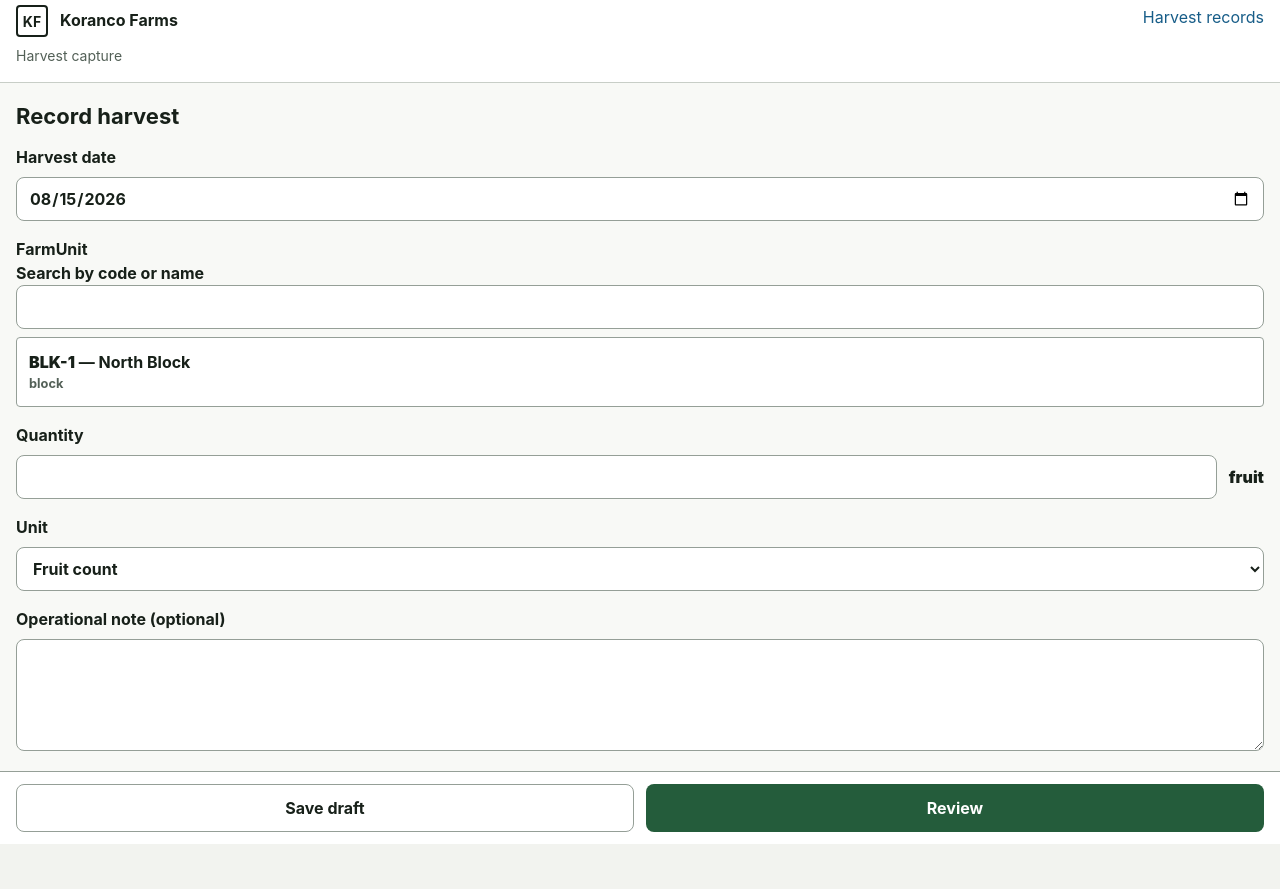
Scenario: field harvest capture › searches and selects FarmUnit, validates count, reviews, and submits
Click the button "BLK-1 — North Block block" at (52, 362), box 16,337 -> 1264,407
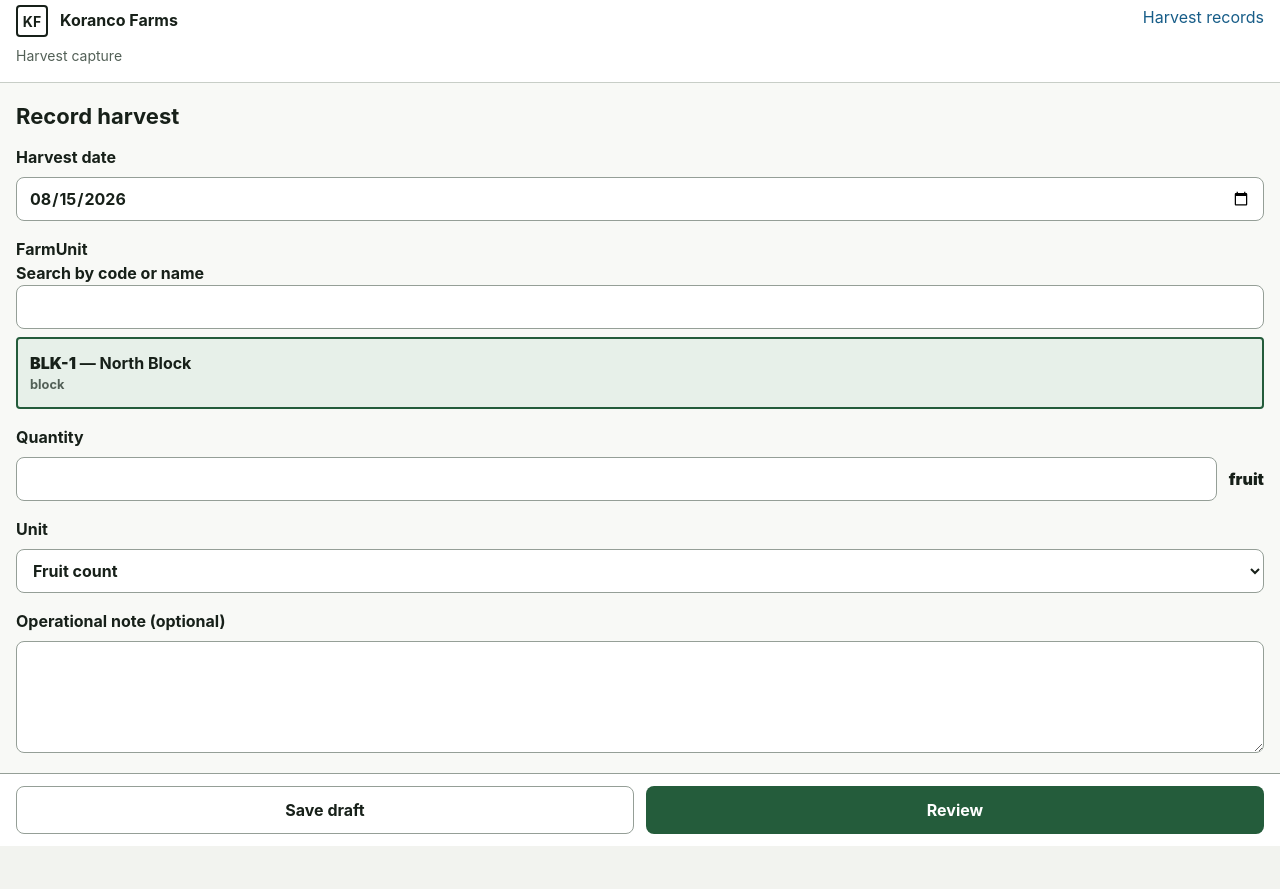
Type "1.5" into the number field labelled "Quantity" at (616, 479), box 16,457 -> 1217,501
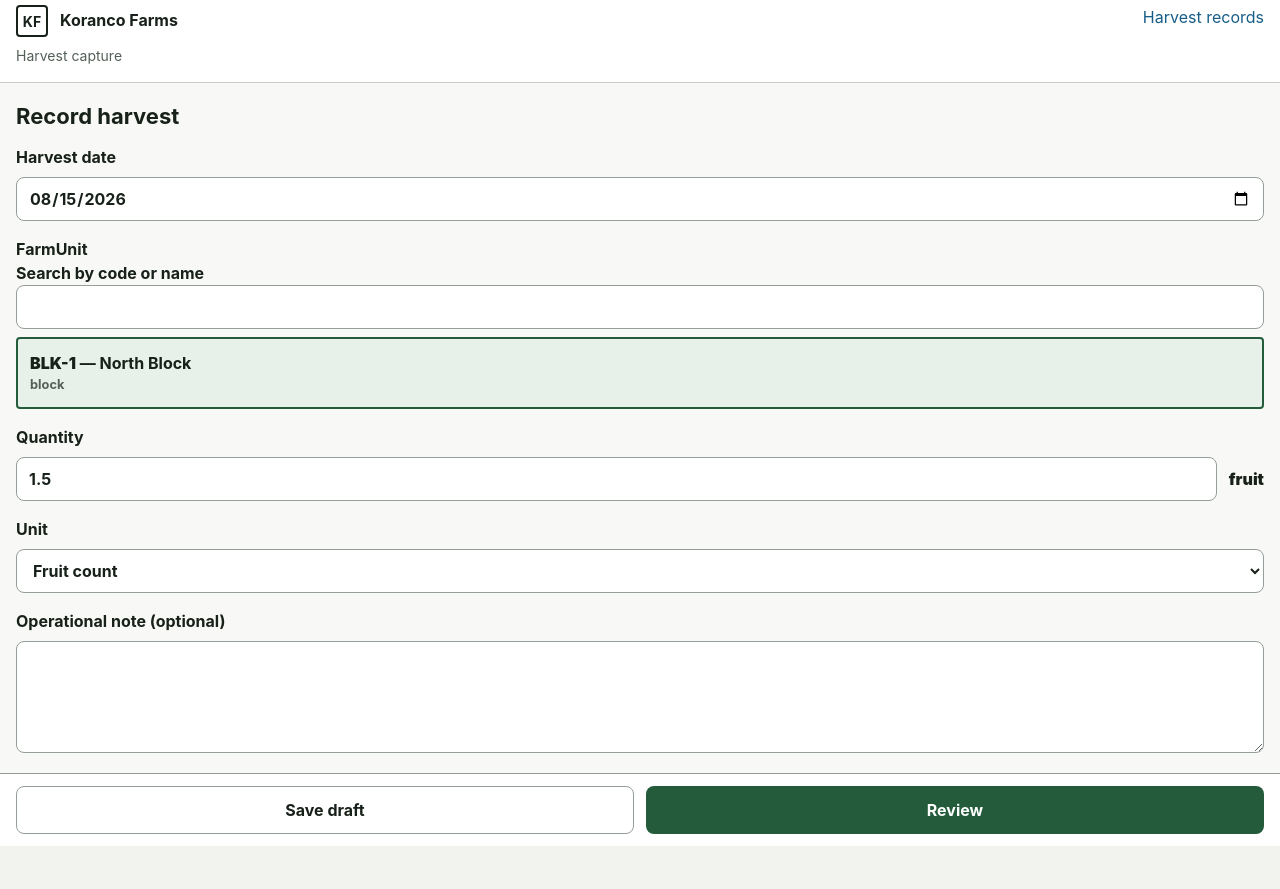
Click the button "Review" at (955, 810), box 646,786 -> 1264,834
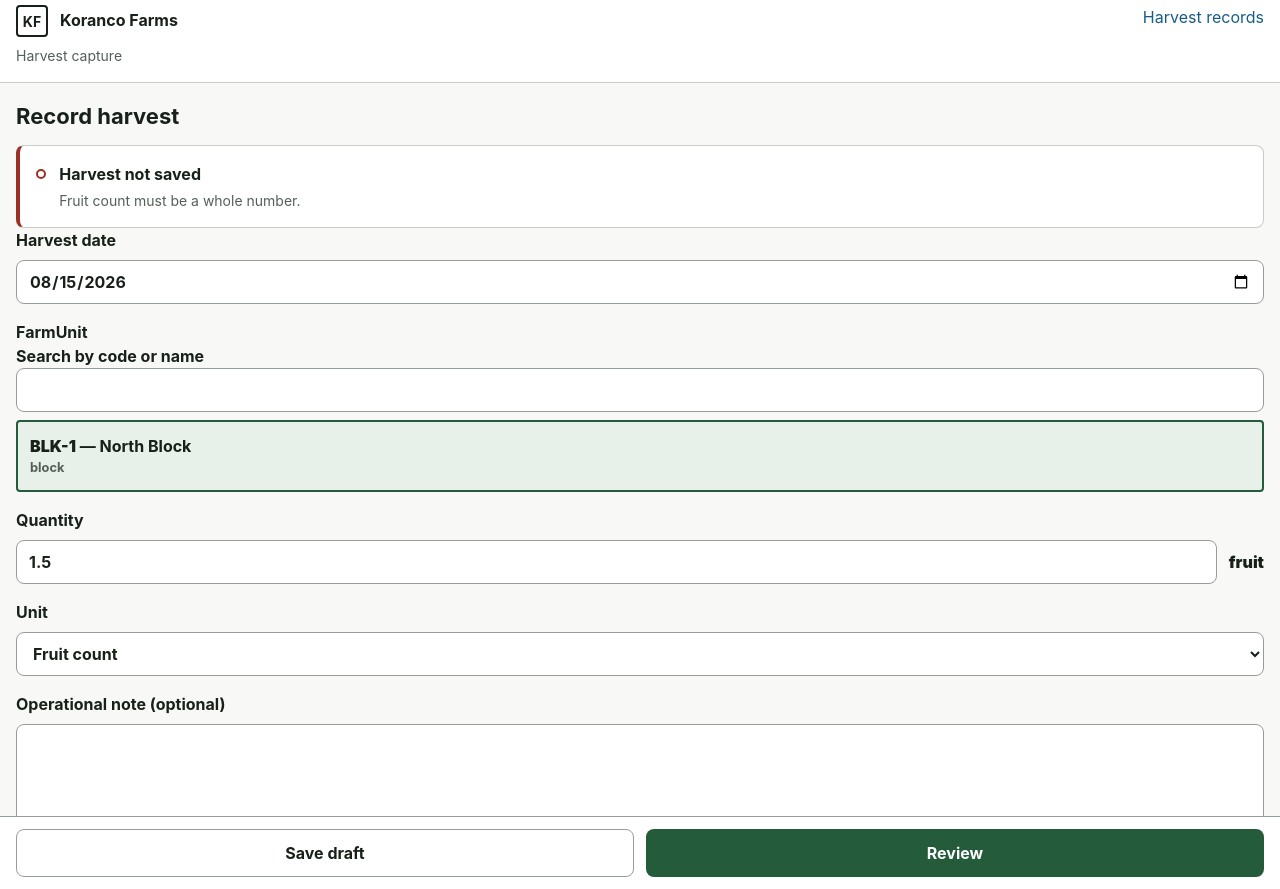
Expected: the text "Fruit count must be a whole number." is shown, 59,192 -> 300,209
Replace the text in the number field labelled "Quantity" with "25" at (616, 562), box 16,540 -> 1217,584
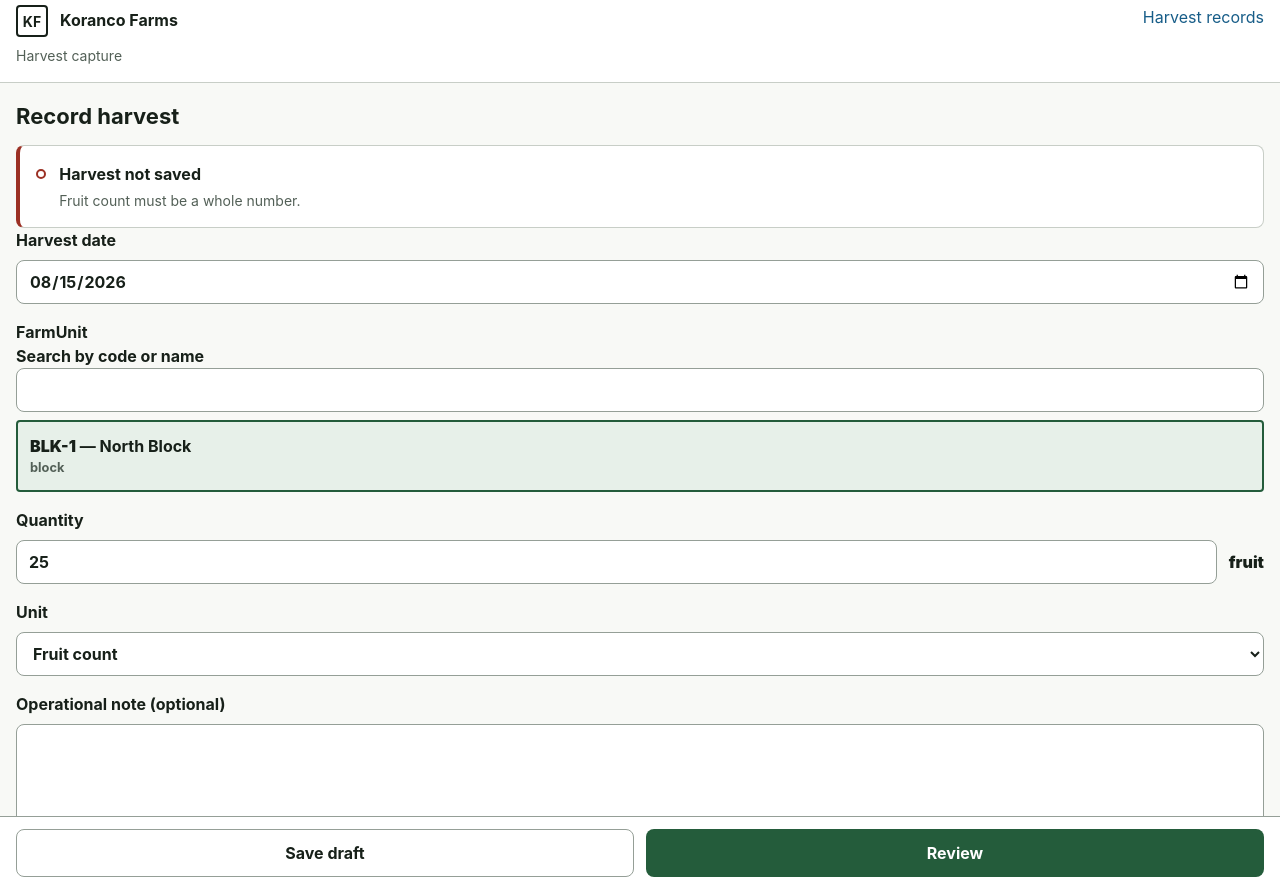
Click the button "Review" at (955, 853), box 646,829 -> 1264,877
(page scrolled)
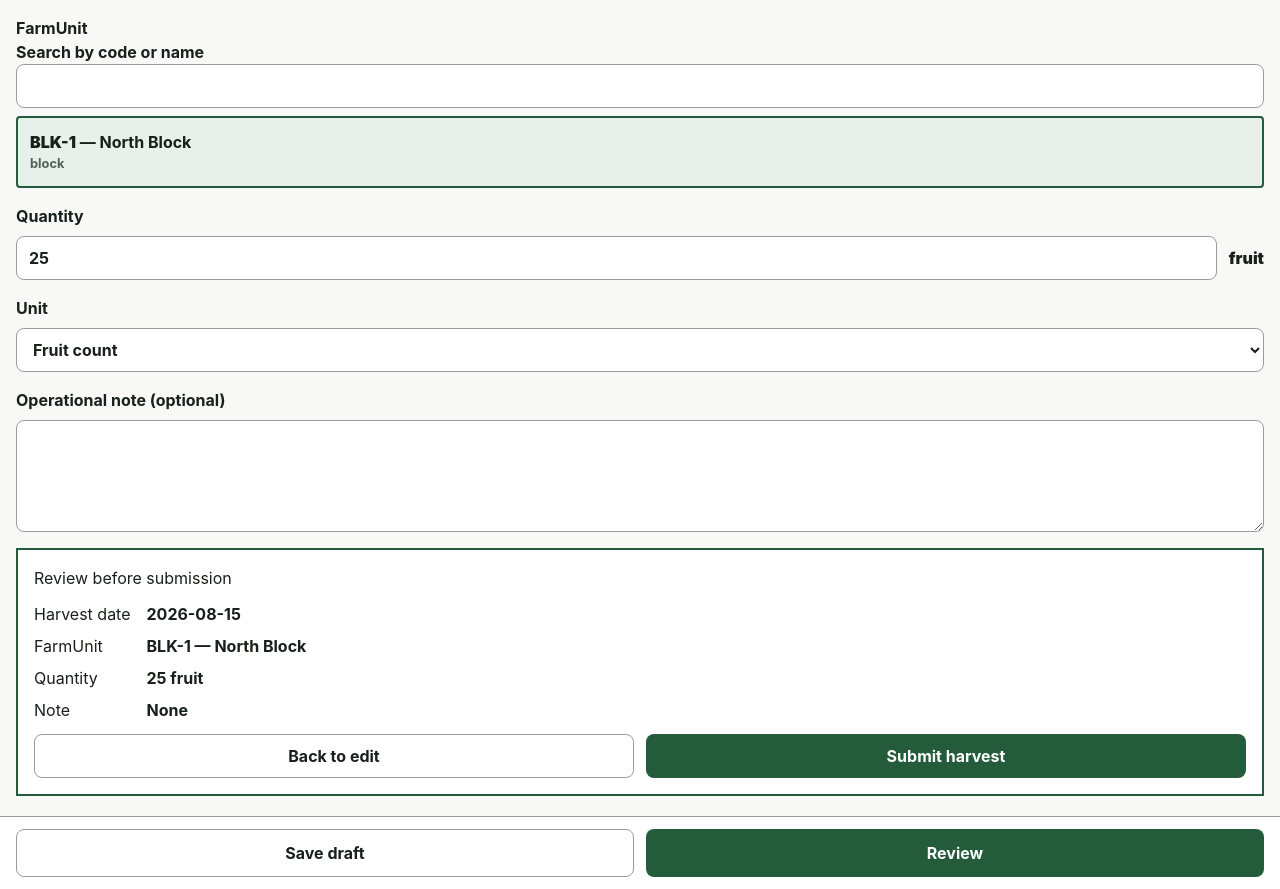
Expected: the heading "Review before submission" is shown, 34,568 -> 232,588
Click the button "Submit harvest" at (946, 756), box 646,734 -> 1246,778
(page scrolled)
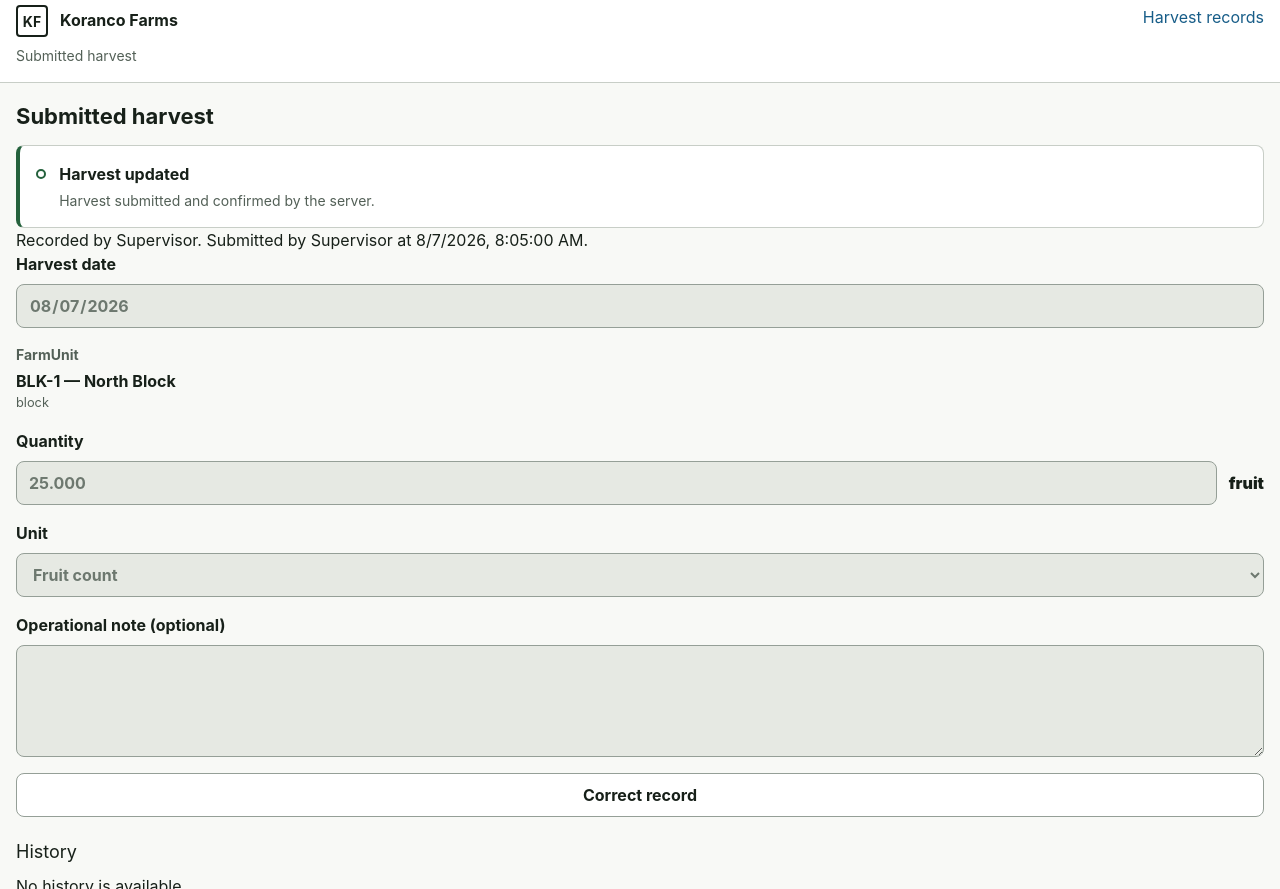
Expected: the text "Harvest submitted and confirmed by the server." is shown, 59,192 -> 375,209
